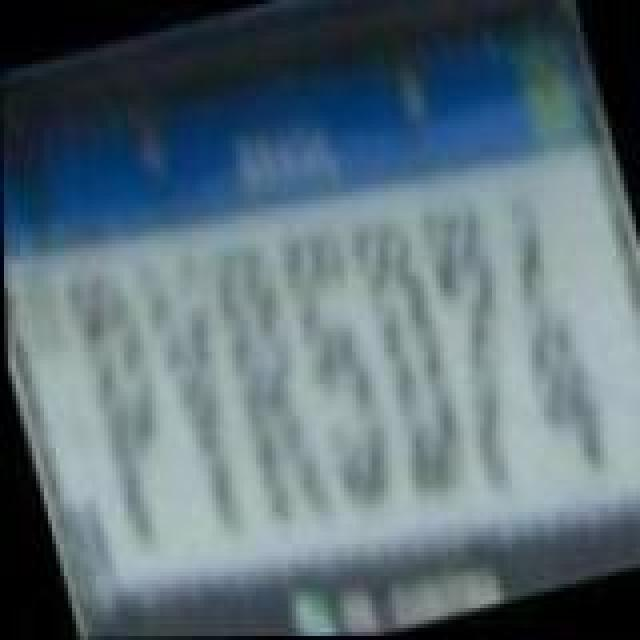4: (478, 176, 618, 484)
5: (266, 212, 410, 516)
7: (406, 184, 550, 496)
D: (336, 210, 476, 506)
P: (50, 258, 194, 554)
R: (194, 228, 338, 536)
Y: (120, 242, 268, 546)
